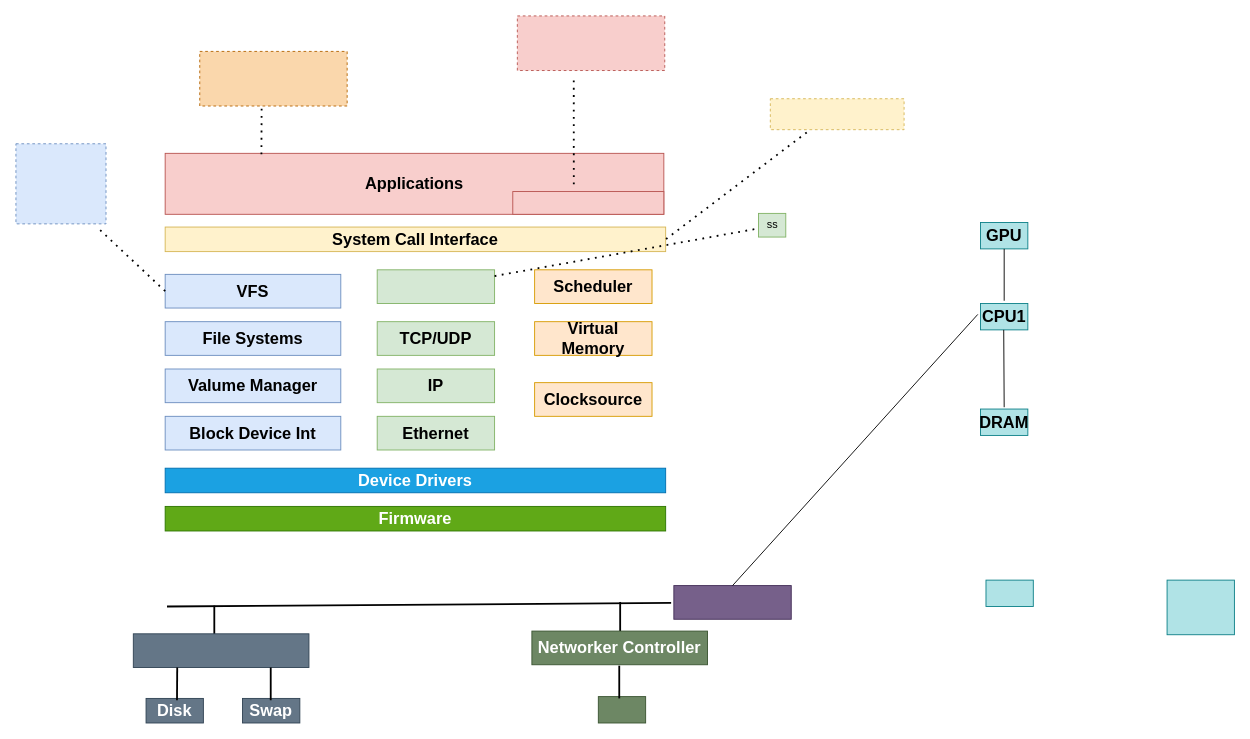
The diagram is 1250 pixels wide and 739 high, and some of its shapes have lost their labels. The centre of each missing label's shape, as x and y in pixels:
"1 应用配置 2 用户生成内容，用户调用 3 mysqld_qslower" goes at point 273,78.
"FAN" goes at point 1009,593.
"I/O Bridge" goes at point 732,602.
"I/O Controller" goes at point 220,650.
"opensnoop lsof fatrace pcstat" goes at point 60,183.
"port" goes at point 621,709.
"Power Supply" goes at point 1200,607.
"Sockets" goes at point 435,286.
"System Libraries" goes at point 588,202.
"系统库依赖和调用： 1 ldd 2 gethostlatency 3 ltrace" goes at point 590,43.
"跟踪系统调用：strace" goes at point 836,114.
